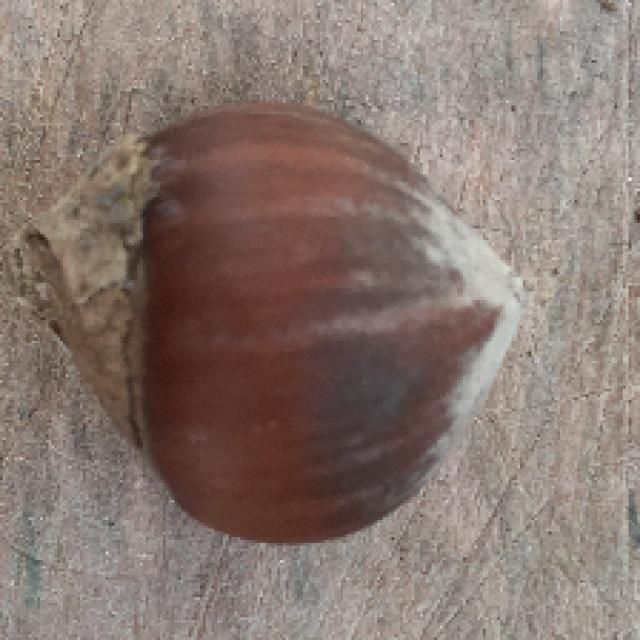damagedHazelnut: (9, 97, 530, 536)
